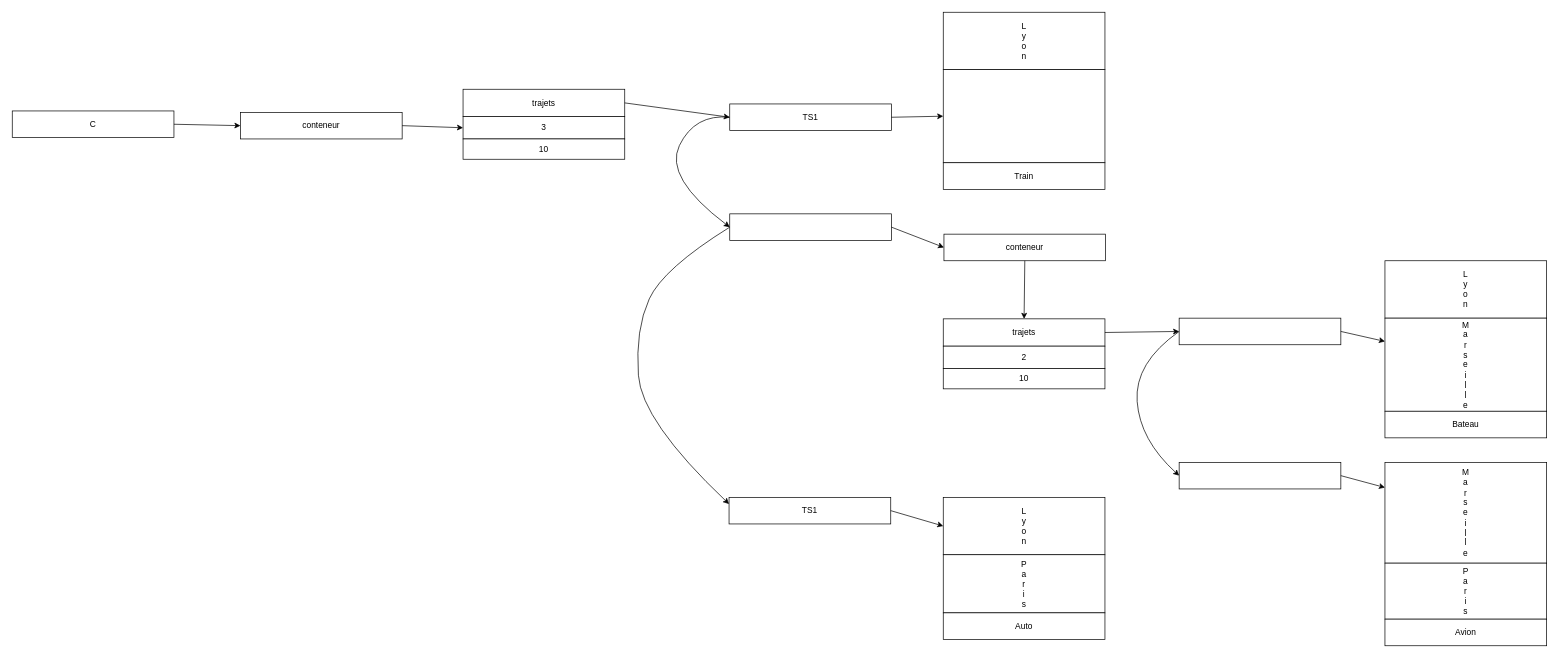
This 1559x658 diagram has some shape labels left out. The centre of each missing label's shape, as x and y in pixels:
B o r d e a u x: point (1024, 116)
TC2: point (810, 226)
TS2-1: point (1259, 331)
TS2-2: point (1259, 475)
